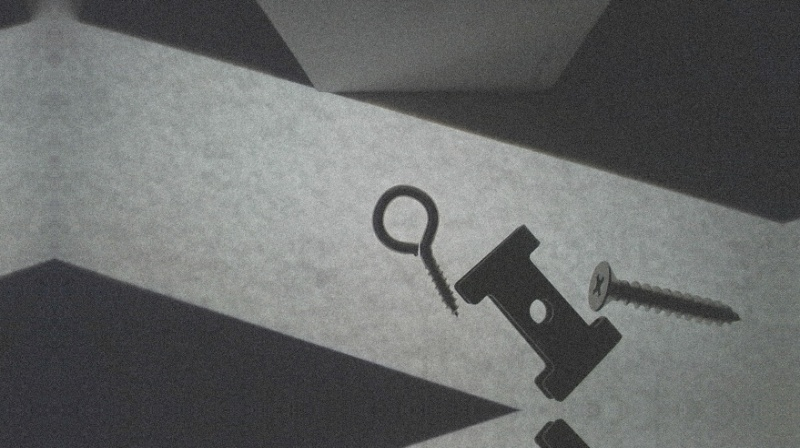O001: (369, 182, 459, 319)
O002: (453, 223, 625, 403)
S001: (584, 256, 743, 328)
